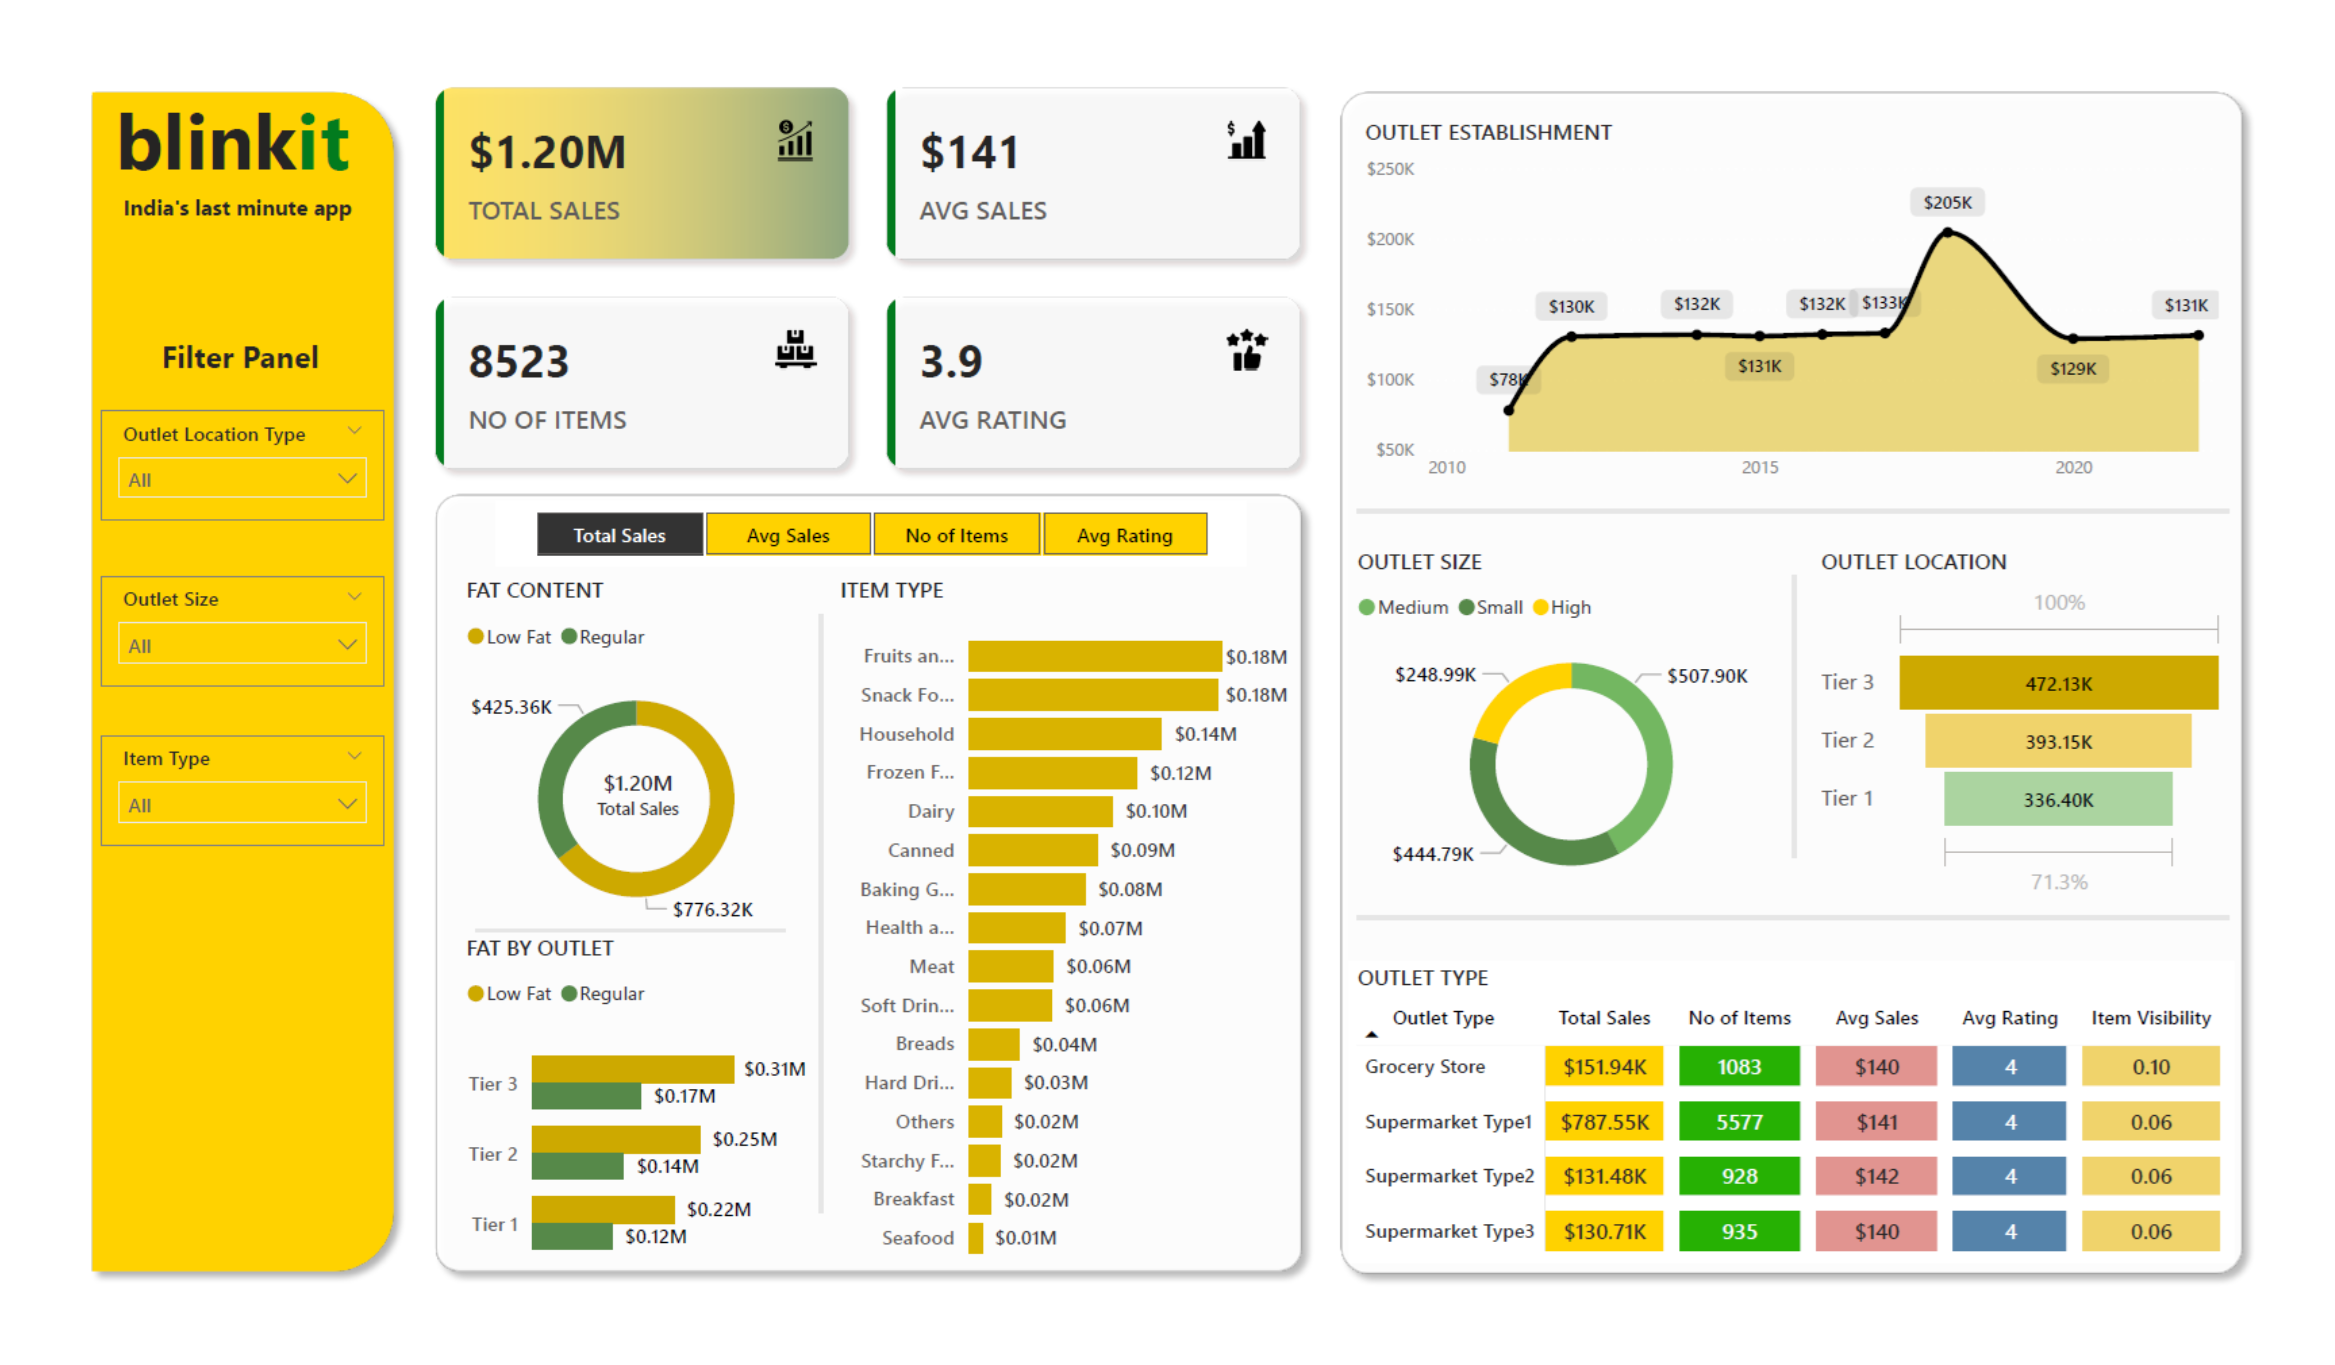

The dashboard page shown, as its layout file describes it:
{"tool":"powerbi","page":{"name":"Page 1","canvas":[1400,800],"ordinal":0},"visuals":[{"type":"shape","box":[24.9,24.9,205,749.7],"z":0},{"type":"textbox","box":[43.5,24.9,163.6,78.7],"z":1000},{"type":"textbox","box":[47.5,91.2,161.7,29.2],"z":2000},{"type":"cardVisual","fields":{"Data":["BlinkIT Grocery Data.Total Sales","BlinkIT Grocery Data.Avg Sales","BlinkIT Grocery Data.No of Items","BlinkIT Grocery Data.Avg Rating"]},"box":[229.6,14.1,570.4,270.2],"z":3000},{"type":"shape","box":[238.4,275.5,554.5,499.8],"z":4000},{"type":"donutChart","title":"FAT CONTENT","fields":{"Y":["BlinkIT Grocery Data.Total Sales"],"Category":["BlinkIT Grocery Data.Item Fat Content"]},"box":[261.4,333.8,220.8,231.3],"z":5000},{"type":"slicer","fields":{"Values":["Metrics.Metrics"]},"box":[284,288,466,40],"z":6000},{"type":"cardVisual","fields":{"Data":["BlinkIT Grocery Data.Total Sales"]},"box":[319.6,432.7,106,72.4],"z":7000},{"type":"clusteredBarChart","title":"FAT BY OUTLET","fields":{"Y":["BlinkIT Grocery Data.Total Sales"],"Category":["BlinkIT Grocery Data.Outlet Location Type"],"Series":["BlinkIT Grocery Data.Item Fat Content"]},"box":[261.4,556.3,220.8,220.8],"z":8000},{"type":"shape","box":[272,543.9,192.5,21.2],"z":9000},{"type":"shape","box":[480,358,12,372],"z":10000},{"type":"barChart","title":"ITEM TYPE","fields":{"Y":["BlinkIT Grocery Data.Total Sales"],"Category":["BlinkIT Grocery Data.Item Type"]},"box":[492.7,333.8,287.9,436.2],"z":11000},{"type":"shape","box":[800,24.7,577.5,752.3],"z":12000},{"type":"lineChart","title":"OUTLET ESTABLISHMENT","fields":{"Y":["BlinkIT Grocery Data.Total Sales"],"Category":["BlinkIT Grocery Data.Outlet Establishment Year"]},"box":[819.4,49.4,538.6,234.9],"z":13000},{"type":"shape","box":[819.4,287.9,540.4,12.4],"z":14000},{"type":"shape","box":[819.4,540.4,540.4,12.4],"z":15000},{"type":"shape","box":[1082.6,333.8,14.1,174.8],"z":16000},{"type":"donutChart","title":"OUTLET SIZE","fields":{"Y":["BlinkIT Grocery Data.Total Sales"],"Category":["BlinkIT Grocery Data.Outlet Size"]},"box":[814.1,316.1,275.5,224.3],"z":17000},{"type":"funnel","title":"OUTLET LOCATION","fields":{"Y":["Sum(BlinkIT Grocery Data.Sales)"],"Category":["BlinkIT Grocery Data.Outlet Location Type"]},"box":[1102,316.1,261.4,222.5],"z":18000},{"type":"pivotTable","title":"OUTLET TYPE","fields":{"Rows":["BlinkIT Grocery Data.Outlet Type"],"Values":["BlinkIT Grocery Data.Total Sales","BlinkIT Grocery Data.No of Items","BlinkIT Grocery Data.Avg Sales","BlinkIT Grocery Data.Avg Rating","Avg(BlinkIT Grocery Data.Item Visibility)"]},"box":[814.1,574,549.2,187.2],"z":19000},{"type":"slicer","fields":{"Values":["BlinkIT Grocery Data.Outlet Location Type"]},"box":[38.9,231.3,176.6,68.9],"z":20000},{"type":"slicer","fields":{"Values":["BlinkIT Grocery Data.Outlet Size"]},"box":[38.9,333.8,176.6,68.9],"z":21000},{"type":"slicer","fields":{"Values":["BlinkIT Grocery Data.Item Type"]},"box":[38.9,432.7,176.6,68.9],"z":22000},{"type":"textbox","box":[60,180.1,130.7,35.3],"z":22001}]}

Visuals, with their boxes in screenshot pixels (x1, y1, x2, y2), scaled from the page's 1400x800 canvas onto the 2335x1365 screenshot:
shape: bbox(42, 42, 383, 1322)
textbox: bbox(73, 42, 345, 177)
textbox: bbox(79, 156, 349, 205)
cardVisual - BlinkIT Grocery Data.Total Sales x BlinkIT Grocery Data.Avg Sales: bbox(383, 24, 1334, 485)
shape: bbox(398, 470, 1322, 1323)
"FAT CONTENT" donutChart: bbox(436, 570, 804, 964)
slicer - Metrics.Metrics: bbox(474, 491, 1251, 560)
cardVisual - BlinkIT Grocery Data.Total Sales: bbox(533, 738, 710, 862)
"FAT BY OUTLET" clusteredBarChart: bbox(436, 949, 804, 1326)
shape: bbox(454, 928, 775, 964)
shape: bbox(801, 611, 821, 1246)
"ITEM TYPE" barChart: bbox(822, 570, 1302, 1314)
shape: bbox(1334, 42, 2297, 1326)
"OUTLET ESTABLISHMENT" lineChart: bbox(1367, 84, 2265, 485)
shape: bbox(1367, 491, 2268, 512)
shape: bbox(1367, 922, 2268, 943)
shape: bbox(1806, 570, 1829, 868)
"OUTLET SIZE" donutChart: bbox(1358, 539, 1817, 922)
"OUTLET LOCATION" funnel: bbox(1838, 539, 2274, 919)
"OUTLET TYPE" pivotTable: bbox(1358, 979, 2274, 1299)
slicer - BlinkIT Grocery Data.Outlet Location Type: bbox(65, 395, 359, 512)
slicer - BlinkIT Grocery Data.Outlet Size: bbox(65, 570, 359, 687)
slicer - BlinkIT Grocery Data.Item Type: bbox(65, 738, 359, 856)
textbox: bbox(100, 307, 318, 368)
